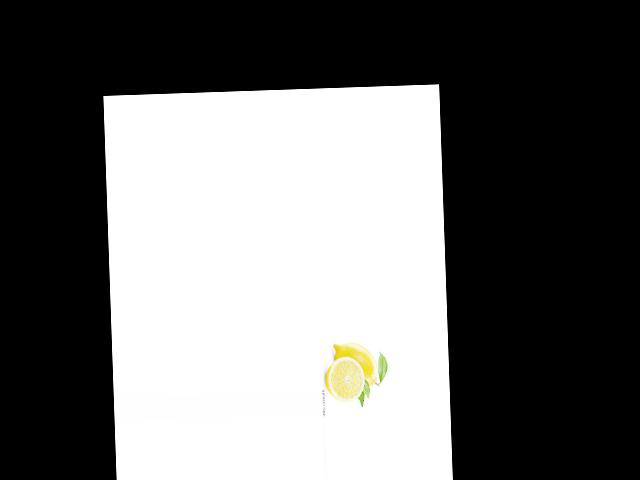lemon: (331, 333, 380, 390)
